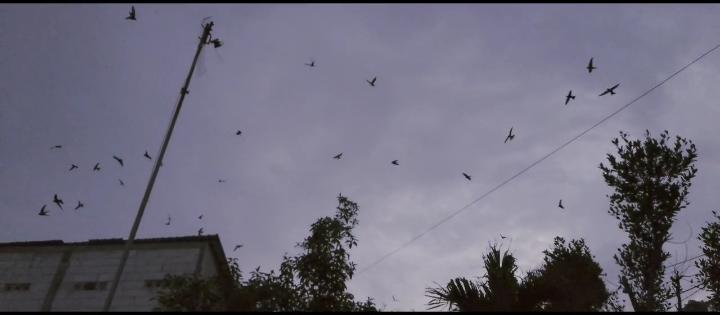walet: (598, 84, 620, 98), (584, 56, 598, 74), (125, 6, 139, 22), (52, 194, 64, 210), (565, 88, 575, 106), (504, 128, 514, 144), (38, 204, 48, 218), (110, 156, 124, 166), (330, 152, 346, 160), (74, 200, 84, 211), (367, 76, 378, 86), (463, 172, 474, 182), (556, 200, 566, 210), (92, 162, 100, 172)
